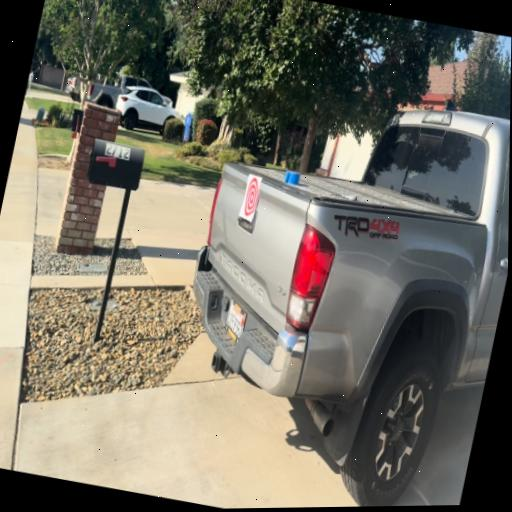bullseye: (240, 175, 263, 223)
